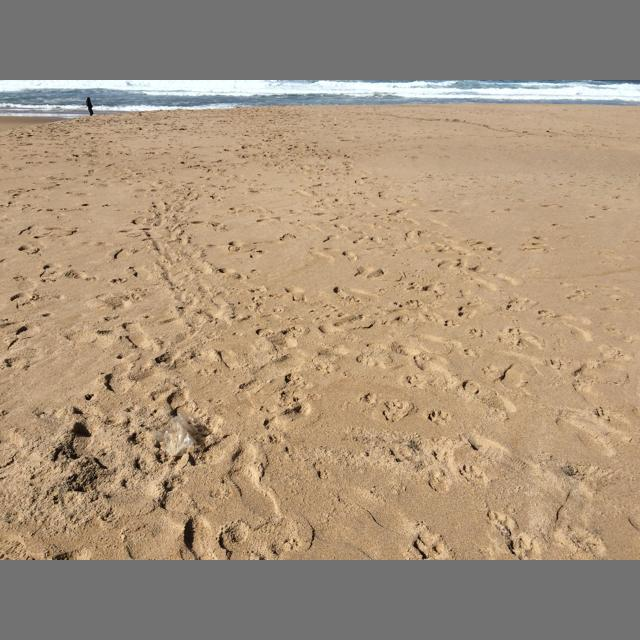litter: (154, 412, 207, 457)
